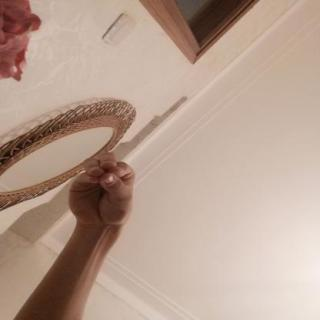HA: (58, 144, 150, 243)
